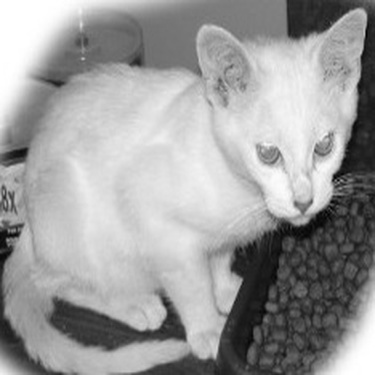cat: (14, 15, 365, 363)
